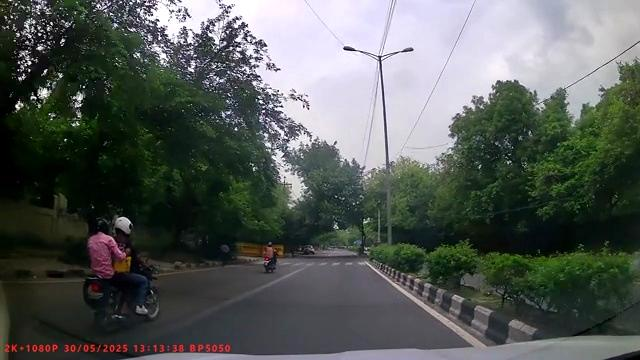passenger_with_helmet: (81, 214, 161, 333)
